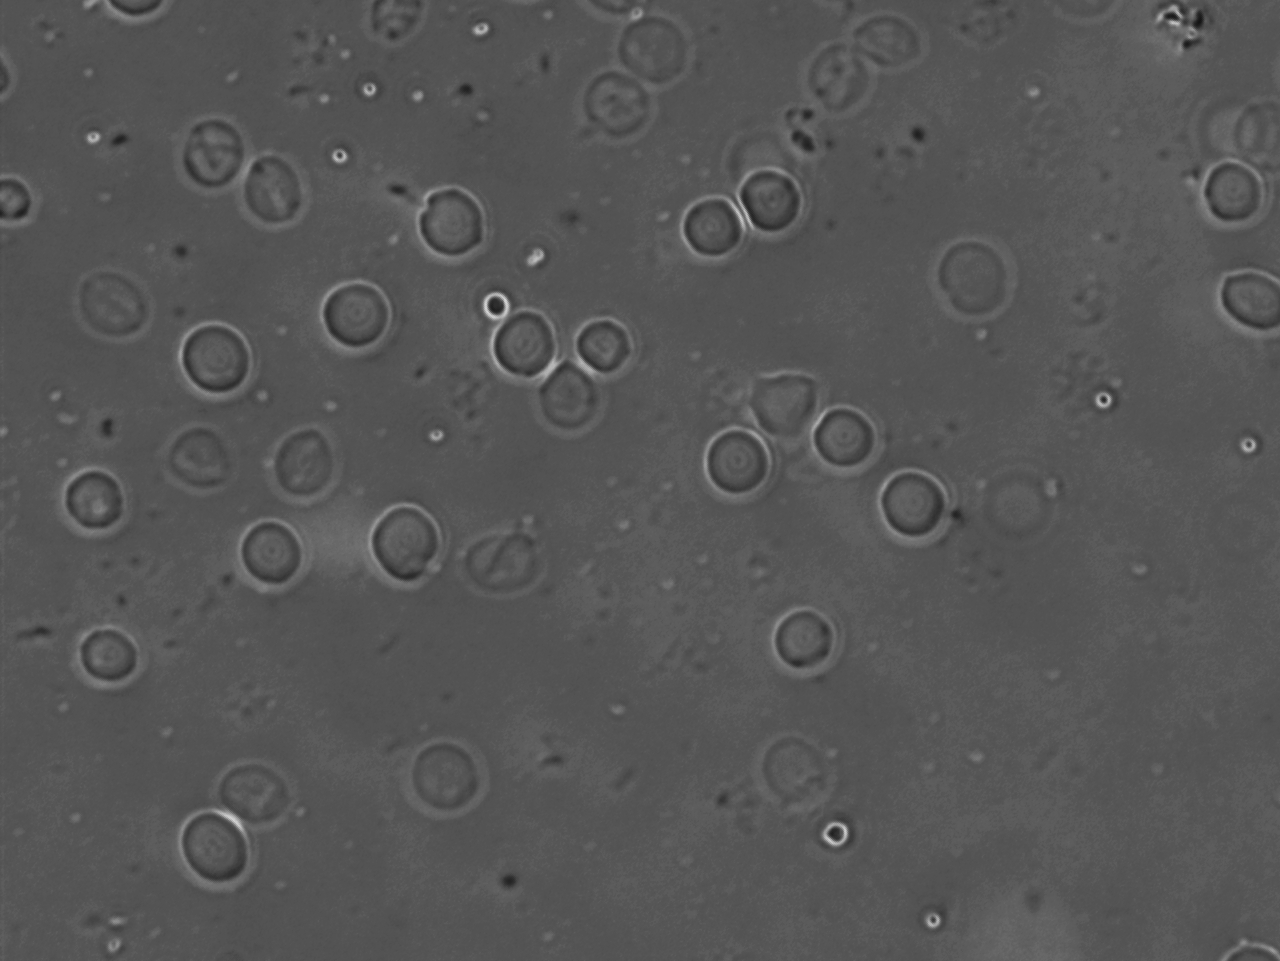depth:0: (222, 511, 335, 608), (161, 797, 263, 900), (799, 395, 902, 493), (723, 152, 827, 246), (696, 417, 796, 511), (166, 315, 260, 412), (862, 452, 960, 546), (351, 496, 448, 588), (307, 271, 403, 361), (670, 182, 765, 273), (482, 297, 569, 393), (411, 186, 503, 273), (1192, 150, 1279, 240), (68, 616, 152, 706), (55, 455, 142, 539), (1213, 252, 1280, 352)
